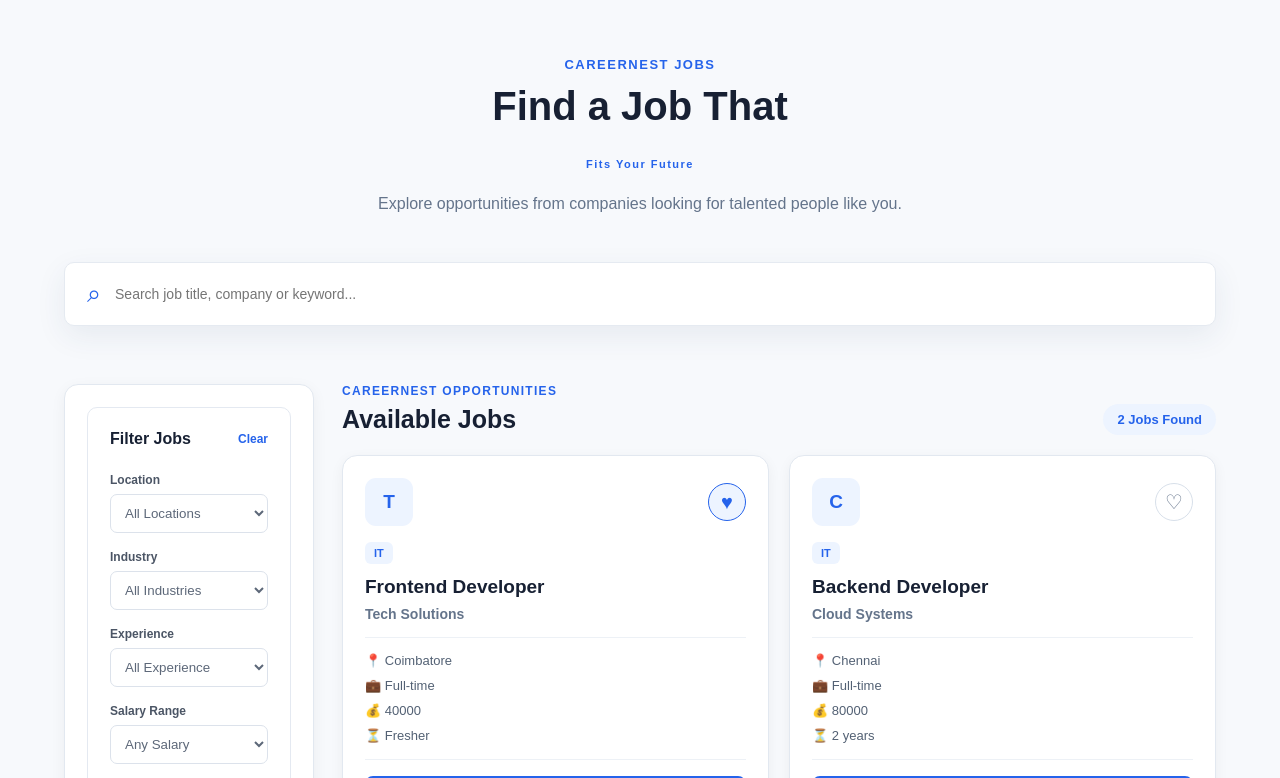
Test: Jobs page › shows an error when removing a saved job fails
Click the button named "Remove saved job" at (727, 502), box [708,483,746,521]
(page scrolled)
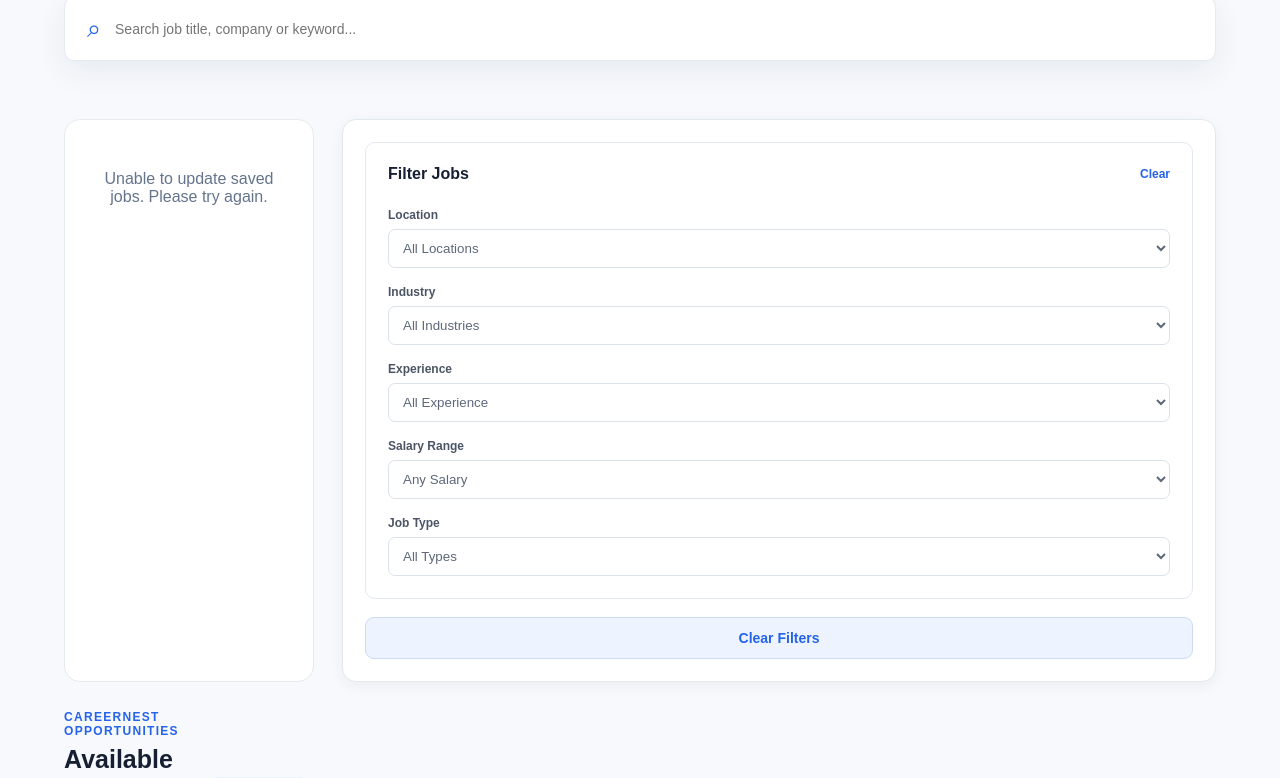
Now the message reads "Unable to update saved jobs. Please try again.", box [104,170,274,205]
